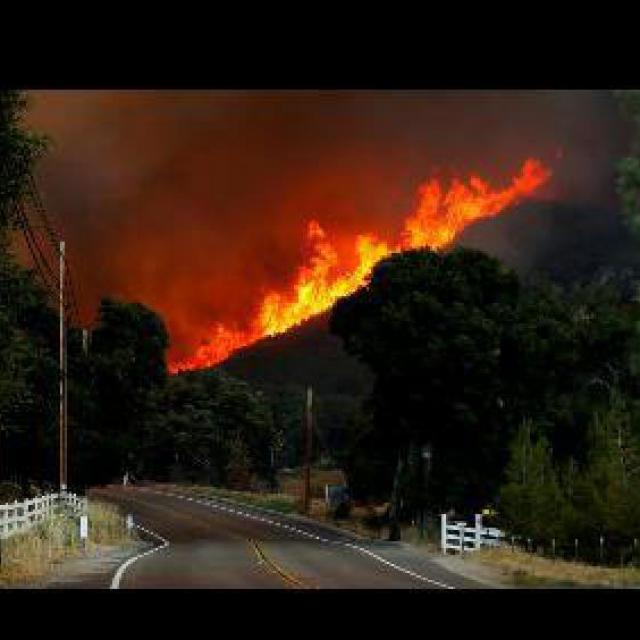fire: (158, 152, 555, 376)
